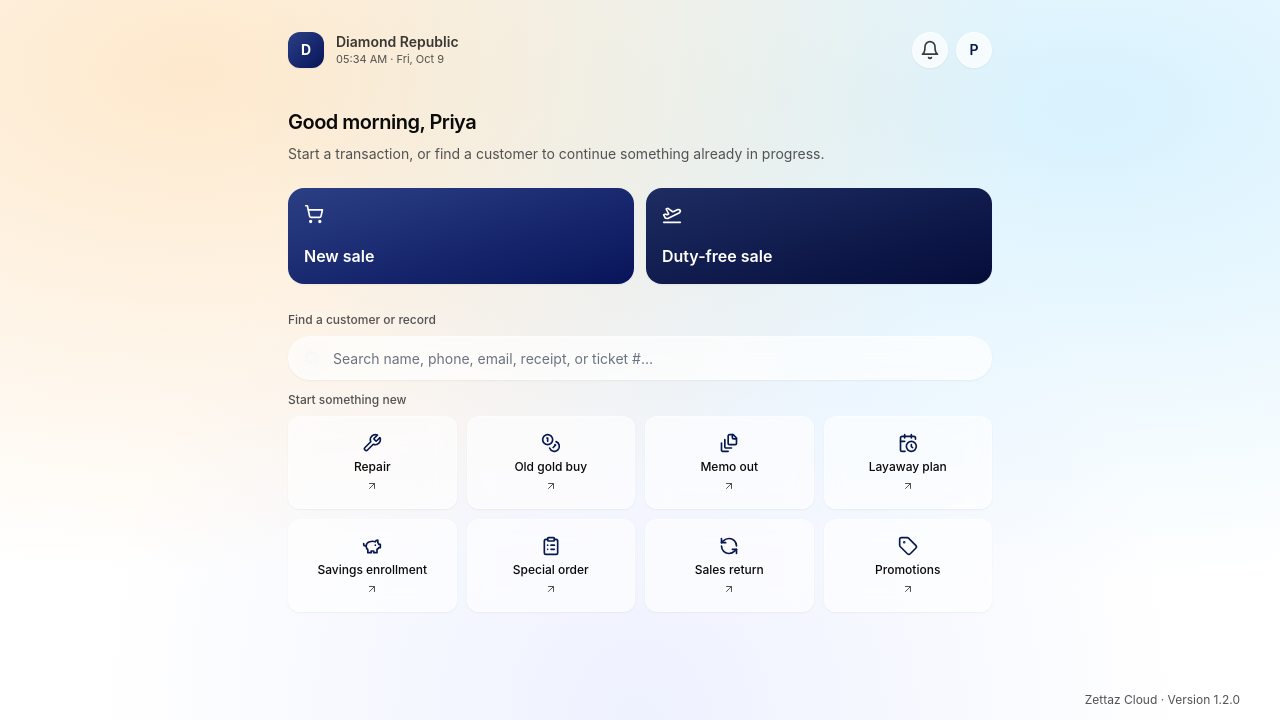
Test: SalesHubPage › Duty-Free intake › lets the cashier switch to an existing customer while a new-customer draft is open
The width and height of the screenshot is (1280, 720).
Click the button "Duty-free sale" at (717, 256), box [646, 188, 992, 284]
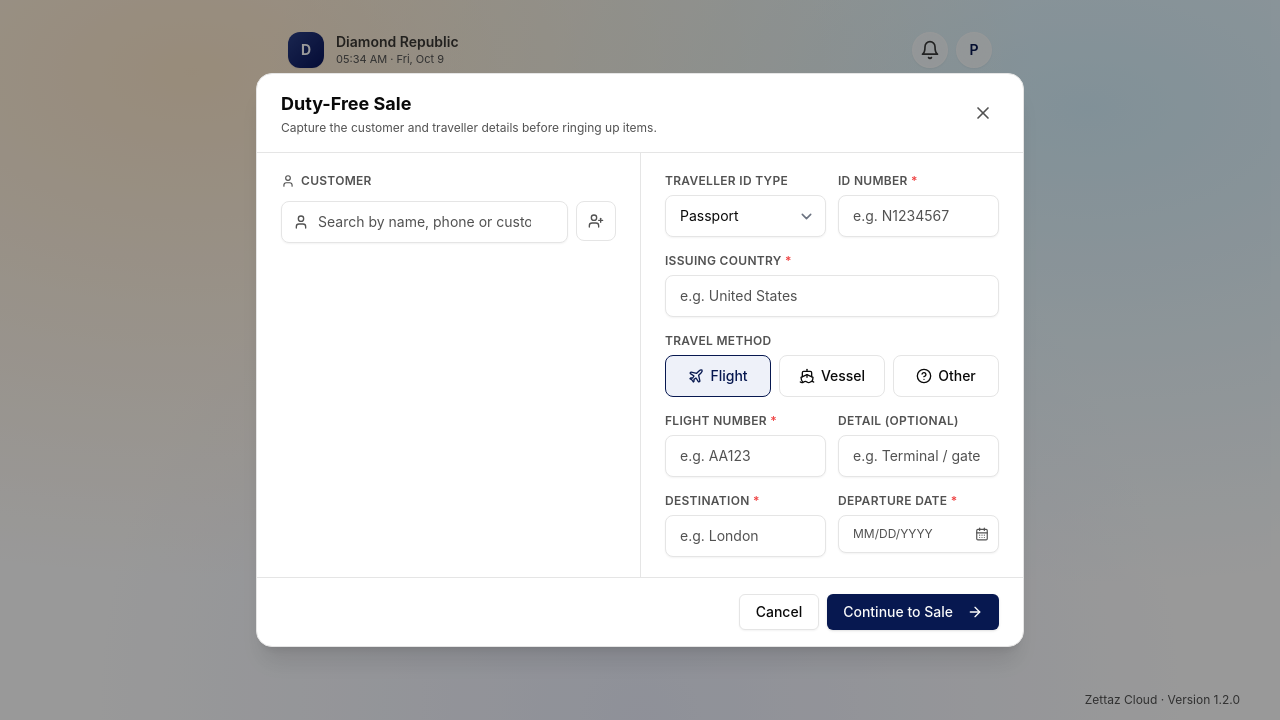
Click the button titled "Add new customer" at (596, 221), box [576, 201, 616, 241]
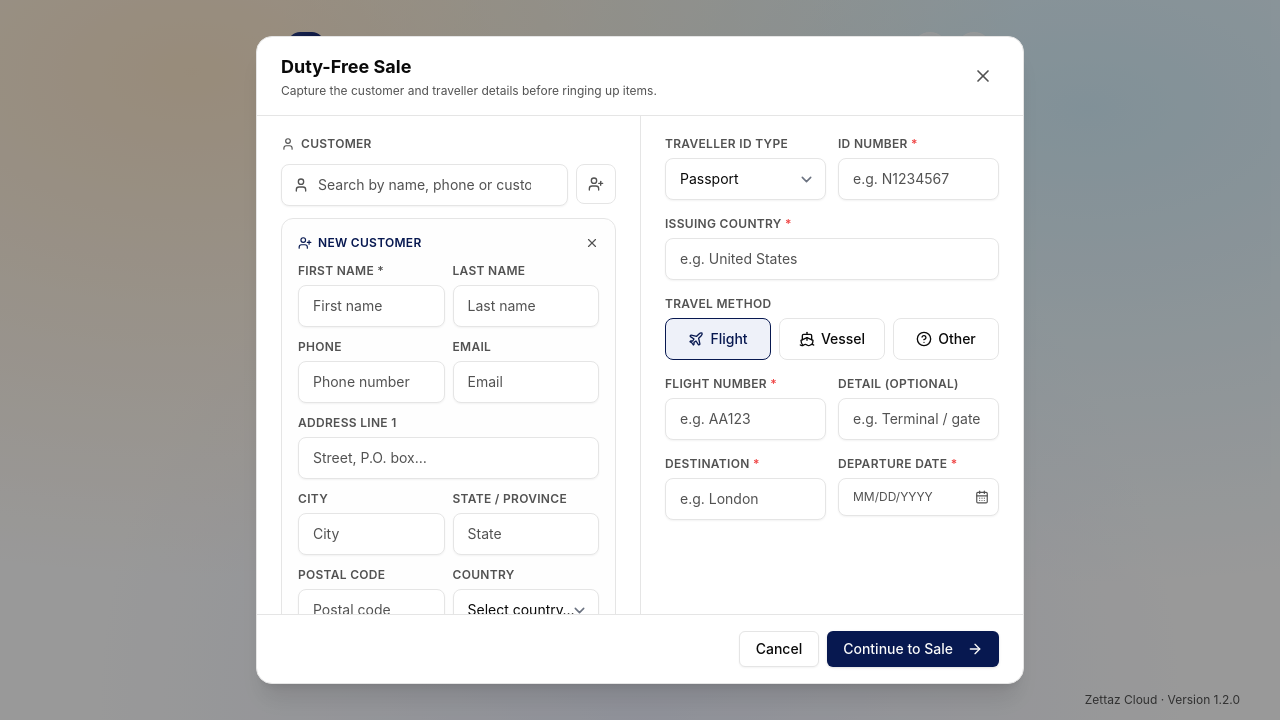
Type "Draft Name" into the field with placeholder "First name" at (371, 306), box [298, 285, 444, 327]
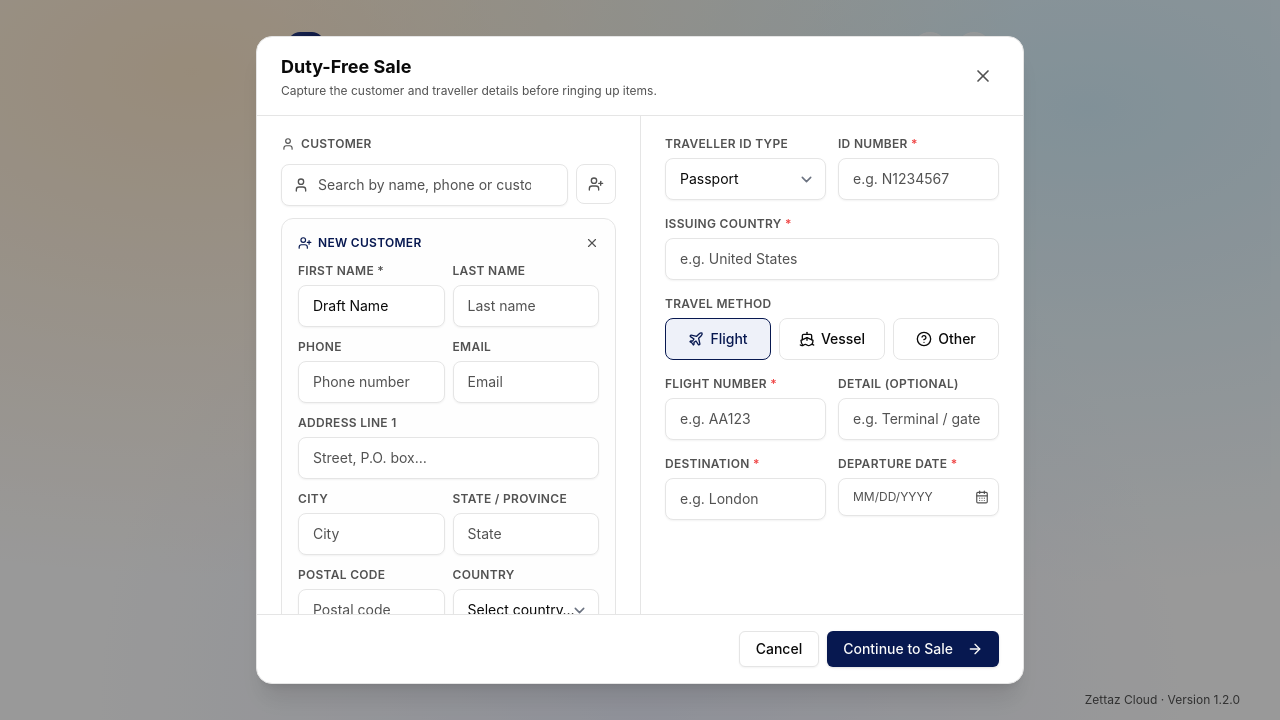
Type "Sam" into the field with placeholder "Search by name, phone or customer code…" at (424, 185), box [281, 164, 568, 206]
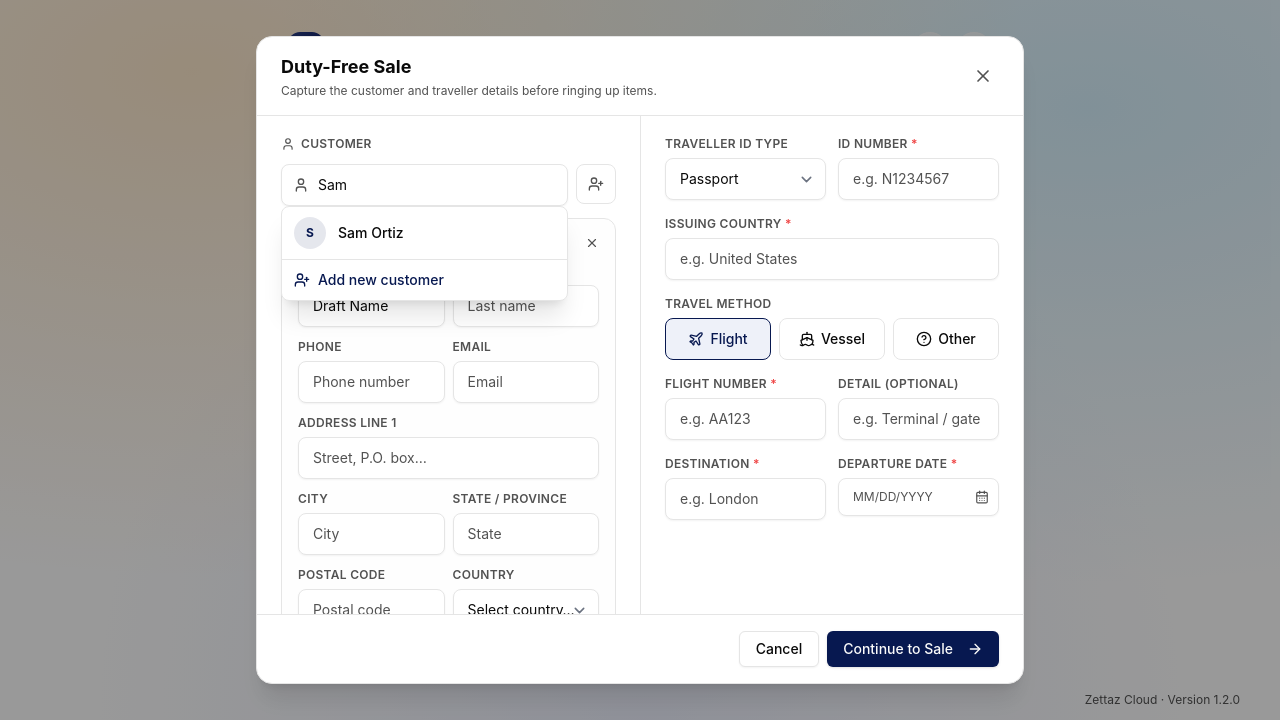
Press the mouse on the text "Sam Ortiz" at (371, 232), box [338, 224, 404, 241]
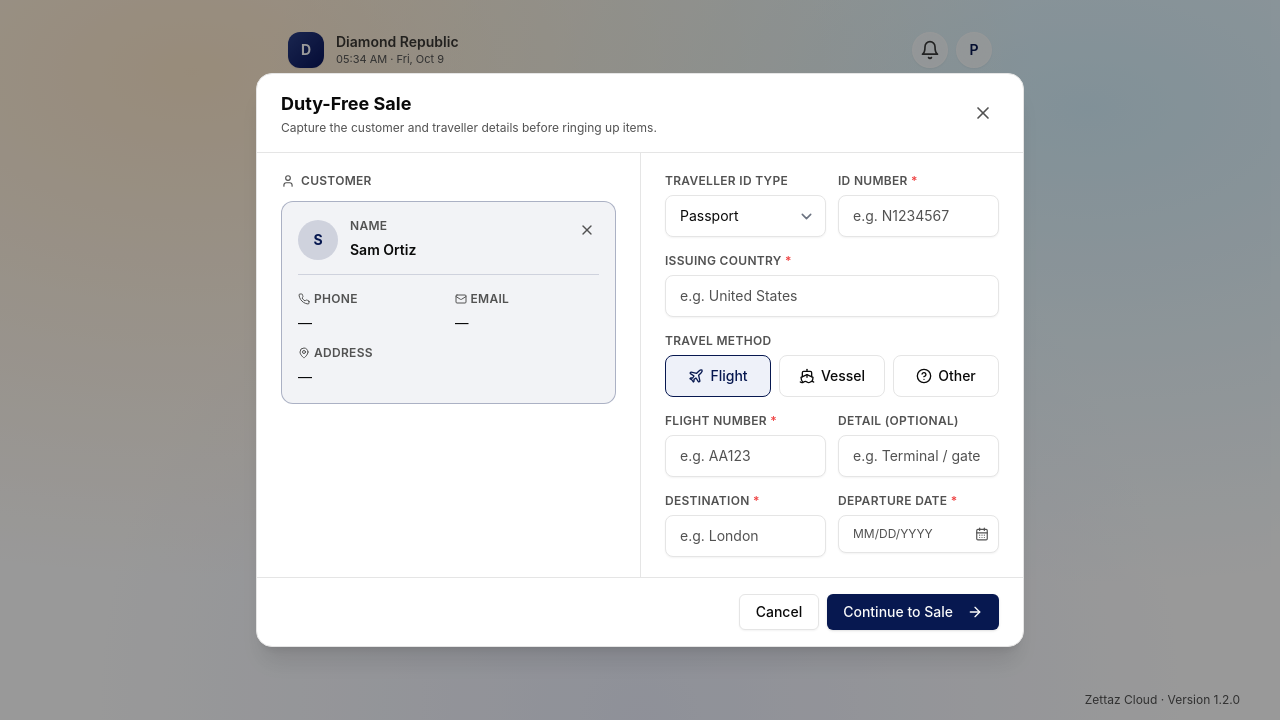
Expected: the text "Sam Ortiz" is shown, [350, 240, 416, 260]
Expected: the text "New Customer" is gone
